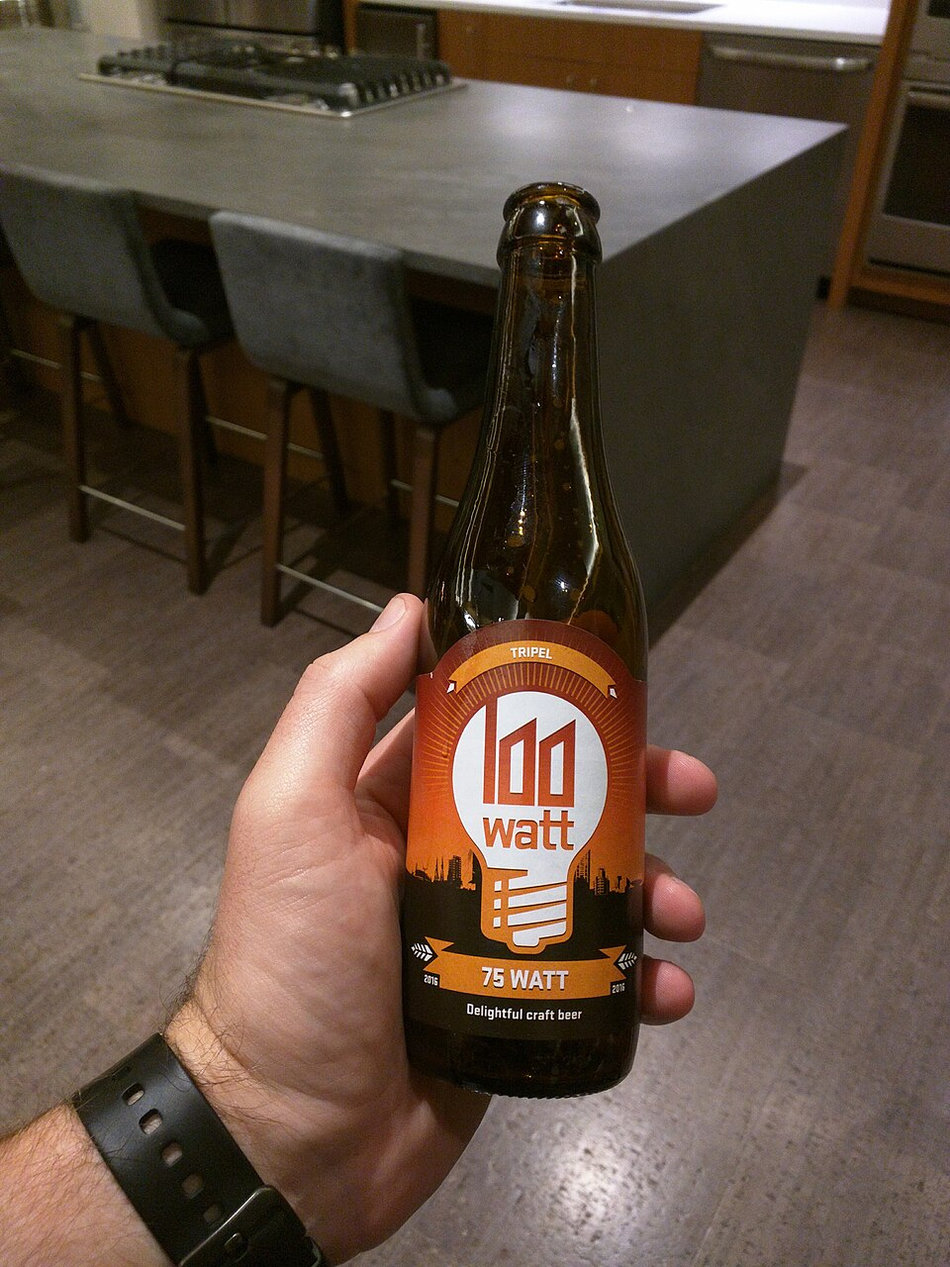beer-bottle: (383, 180, 662, 1112)
